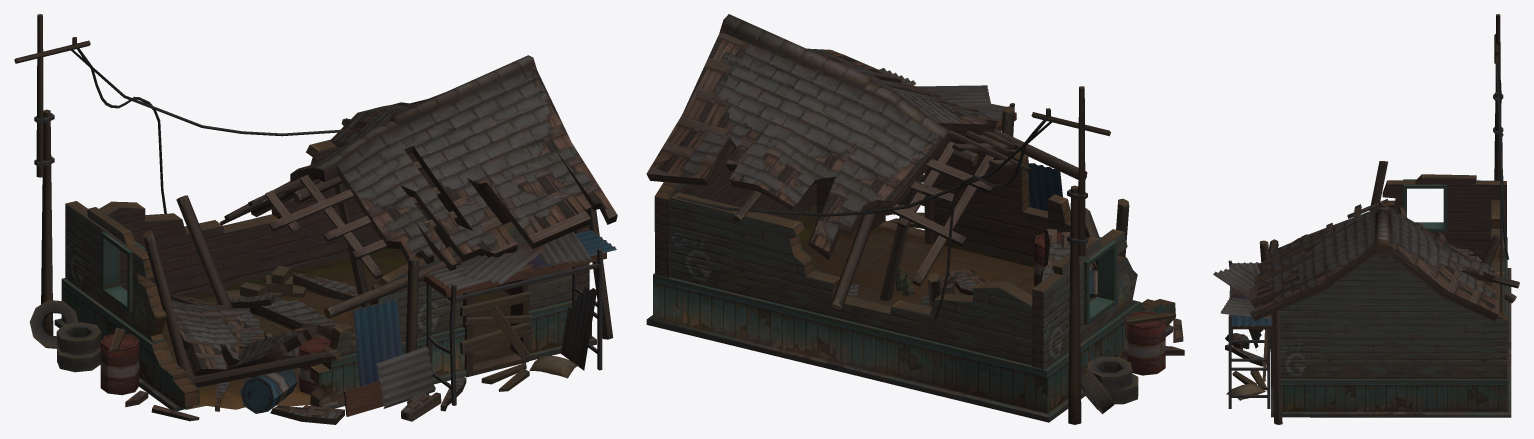
The model's file is mi_ruin007.FBX.
3 views of the same model, side by side, from view 1: azimuth 30°, elevation 25°; view 2: azimuth 150°, elevation 25°; view 3: azimuth 270°, elevation 25° (orthographic). The views are drawn at different scales.
Parts seen in each view (by area): view 1: mi_ruin007; view 2: mi_ruin007; view 3: mi_ruin007.
Boxes of the visible parts, x1,y1,x2,y2 form: mi_ruin007: (14,14,617,424); mi_ruin007: (646,14,1184,424); mi_ruin007: (1213,14,1519,424).
Bounding box in the file's own units: 7.59 × 5.2 × 5.73.
Materials: 1 (1 with a texture image).
